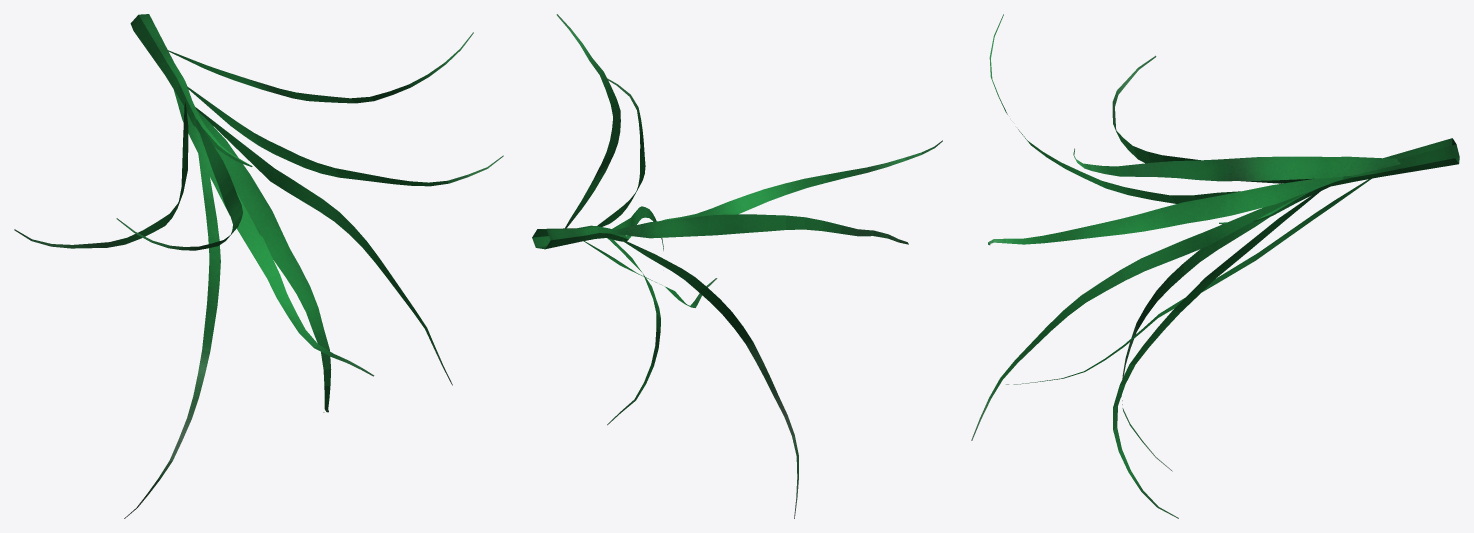
The model's file is medium tuft.obj.
The picture shows the model from 3 angles, left to right: view 1: azimuth 30°, elevation 25°; view 2: azimuth 150°, elevation 25°; view 3: azimuth 270°, elevation 25°; orthographic projection. The views are drawn at different scales.
Parts seen in each view (by area): view 1: Object.1; view 2: Object.1; view 3: Object.1.
Part boxes in pixels (x1,y1,x2,y2): Object.1: (14, 14, 503, 518); Object.1: (532, 14, 942, 518); Object.1: (971, 14, 1459, 518).
Bounding box in the file's own units: 490 × 494 × 450.
1 material, 1 textured.
